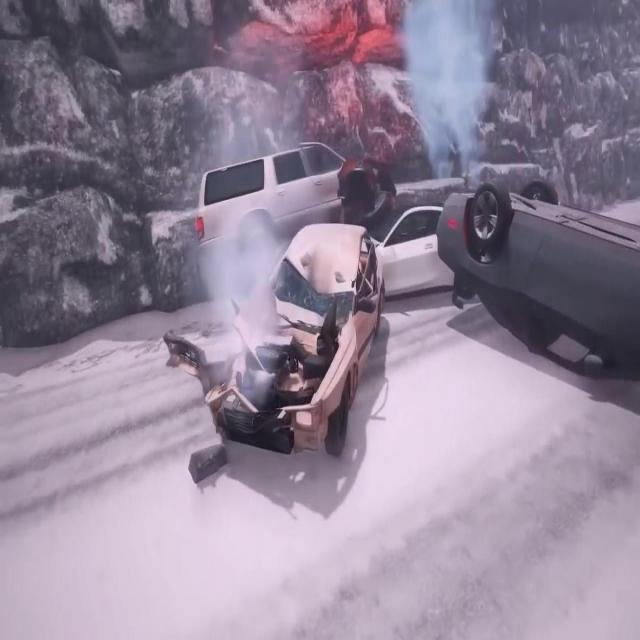severe: (433, 157, 640, 401), (191, 132, 477, 298), (202, 215, 388, 460)
